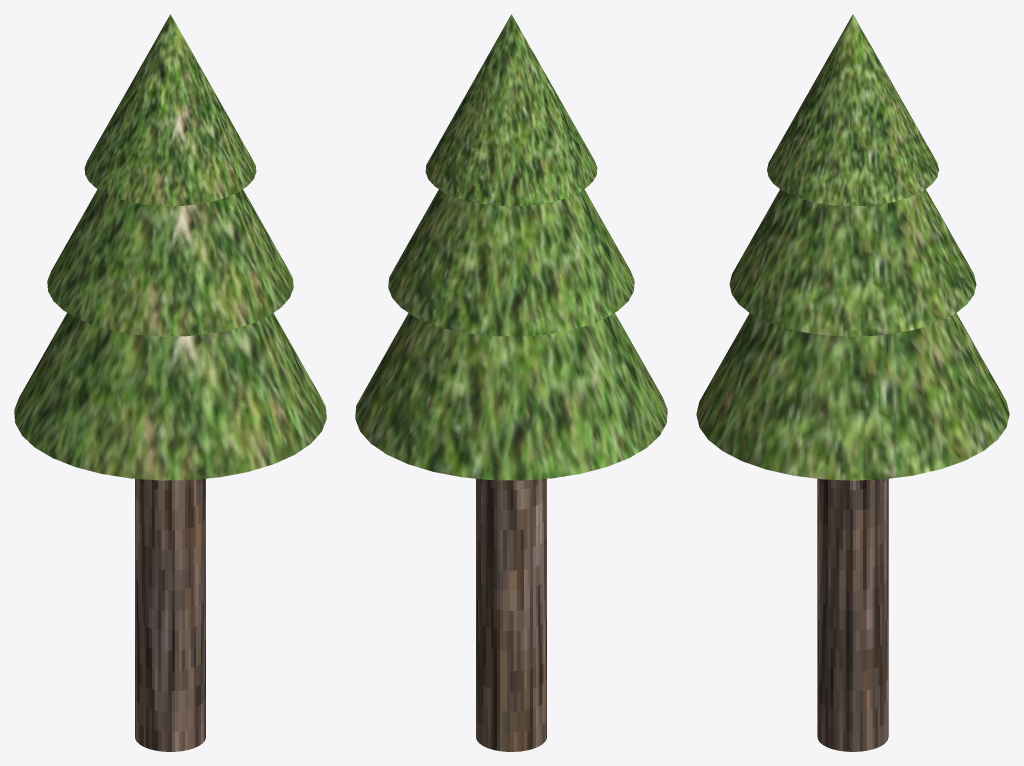
Rendered from tree-pine.glb.
3 renders of one model, left to right at view 1: azimuth 30°, elevation 25°; view 2: azimuth 150°, elevation 25°; view 3: azimuth 270°, elevation 25°, orthographic.
Parts seen in each view (by area): view 1: Leaves.003, Leaves.002, Trunk, Leaves.001; view 2: Leaves.003, Leaves.002, Trunk, Leaves.001; view 3: Leaves.003, Leaves.002, Trunk, Leaves.001.
Boxes of the visible parts, x1,y1,x2,y2 form: Leaves.003: (14,313,326,480); Leaves.002: (47,189,293,336); Trunk: (135,478,205,751); Leaves.001: (84,14,256,206); Leaves.003: (355,313,667,480); Leaves.002: (388,189,634,336); Trunk: (476,478,546,751); Leaves.001: (425,14,597,206); Leaves.003: (696,313,1009,480); Leaves.002: (729,189,976,336); Trunk: (817,478,888,751); Leaves.001: (767,14,938,206).
Bounding box in the file's own units: 22.01 × 56.05 × 22.01.
Materials: 4 (4 with a texture image).
